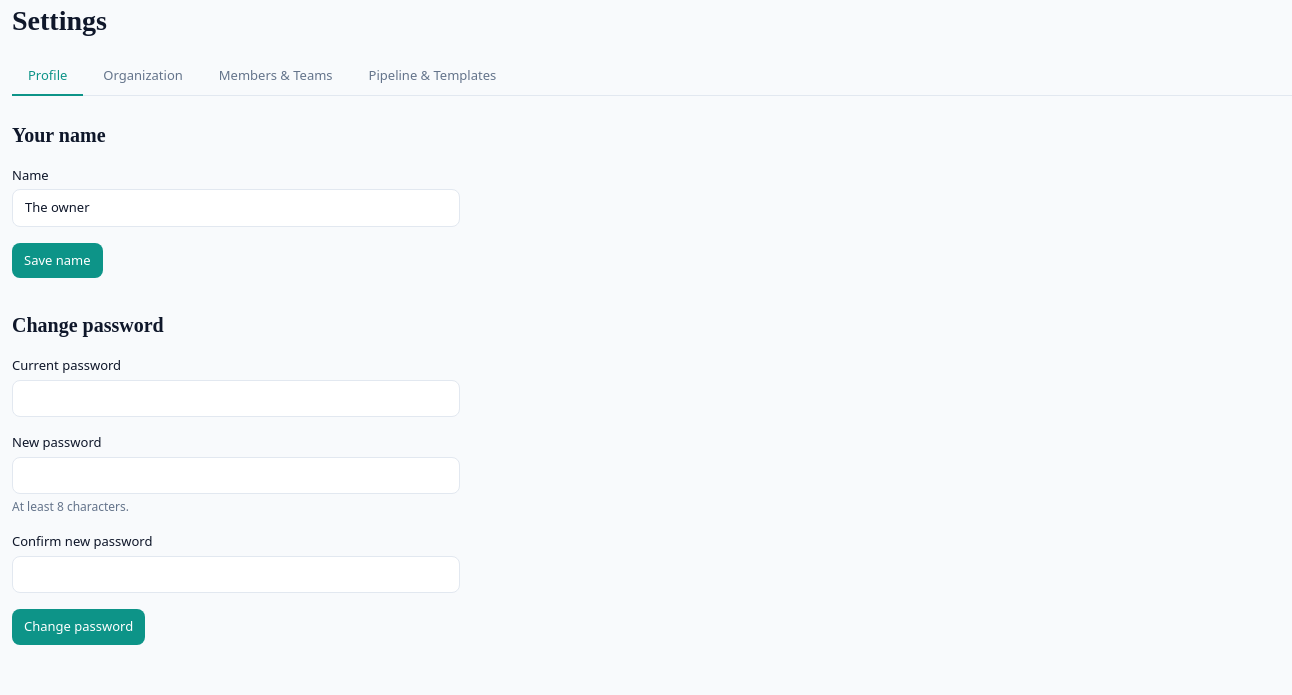
Test: Members tab: who sees which controls › owner
This screenshot has width=1292, height=695.
Click the button "Members & Teams" at (276, 77), box top-left (203, 58), bottom-right (349, 96)
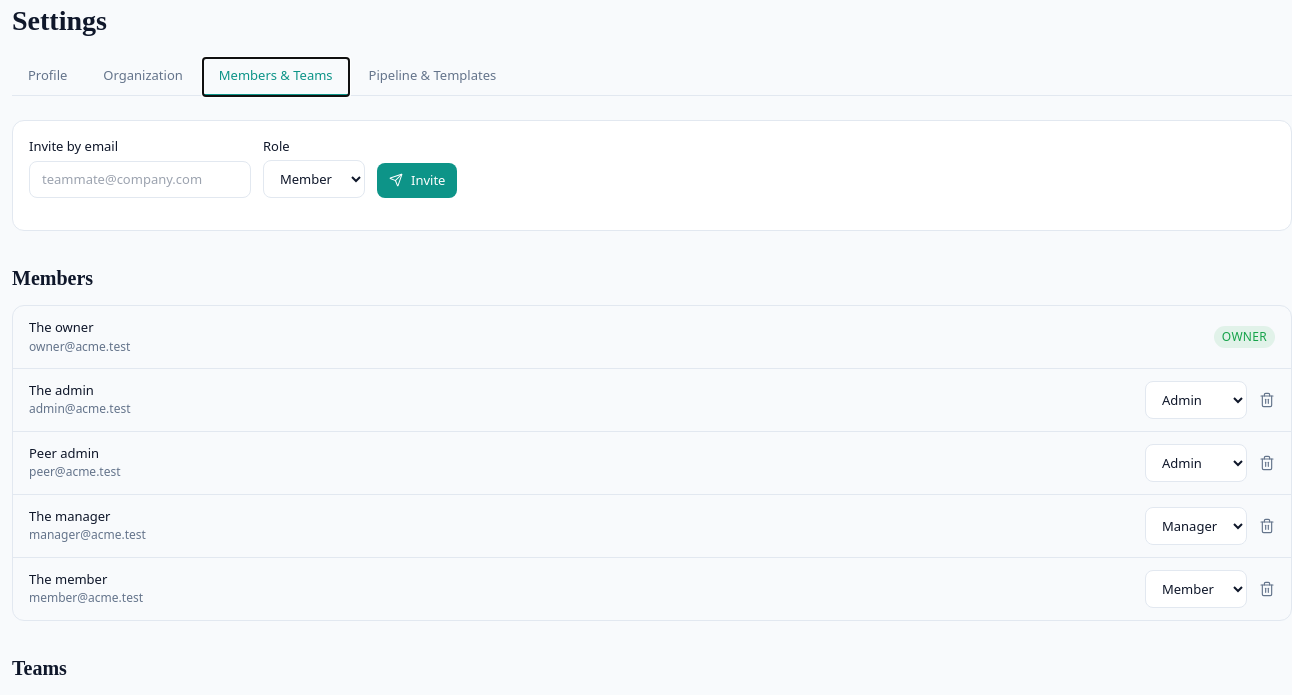
Expected: the text "Peer admin" is shown, top-left (29, 444), bottom-right (99, 462)
